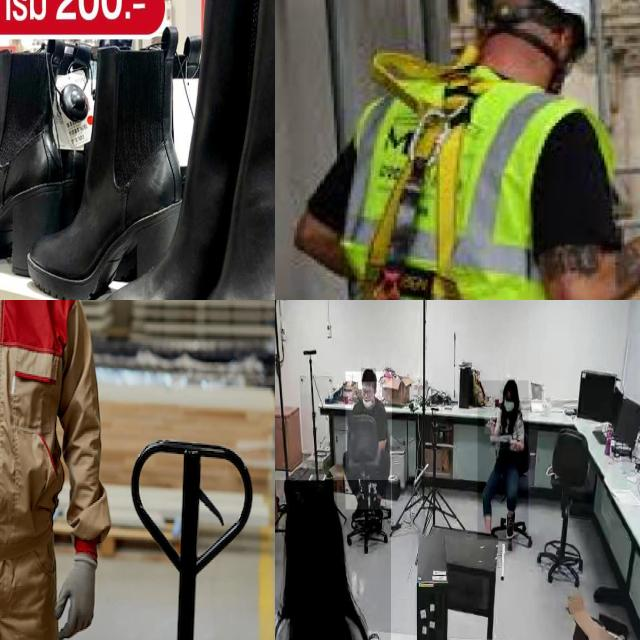Harness: (314, 35, 571, 300)
Sandals: (80, 0, 275, 300)
face_mask: (502, 388, 516, 417)
face_nomask: (360, 382, 374, 401)
hand_glove: (54, 551, 97, 638)
hand_noglove: (484, 416, 496, 435), (509, 438, 518, 452)
head_nohelmet: (284, 481, 338, 523), (361, 368, 377, 382), (502, 378, 518, 391)
person: (275, 480, 391, 640), (477, 380, 529, 540), (346, 372, 392, 509)
shoes: (348, 490, 366, 522), (502, 508, 517, 544)
